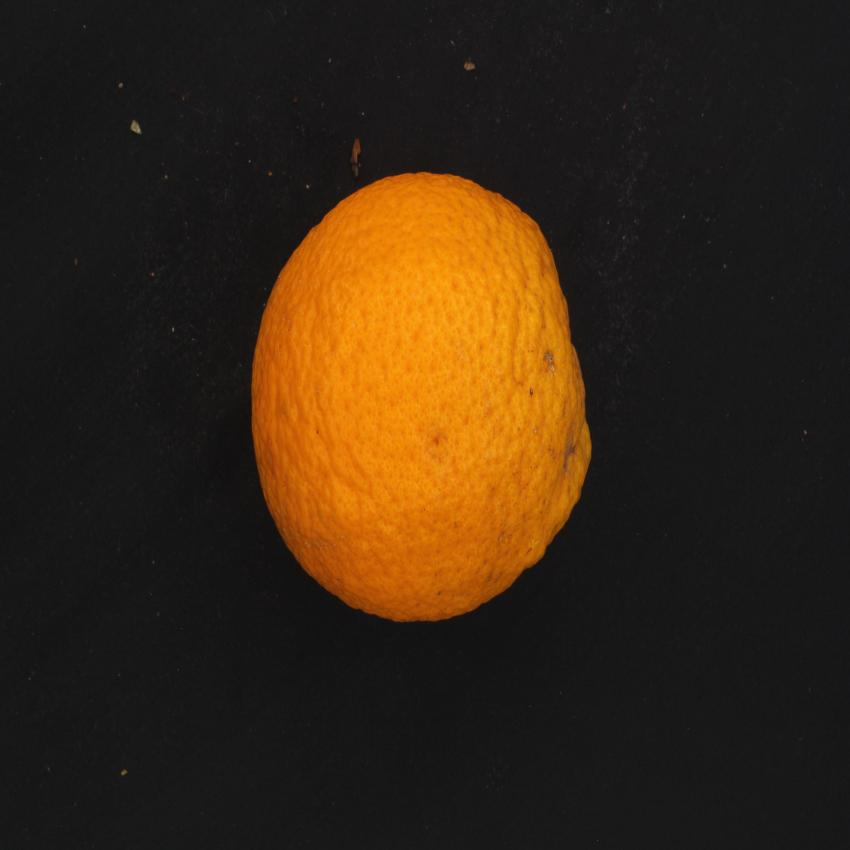Buen estado: (242, 160, 598, 637)
